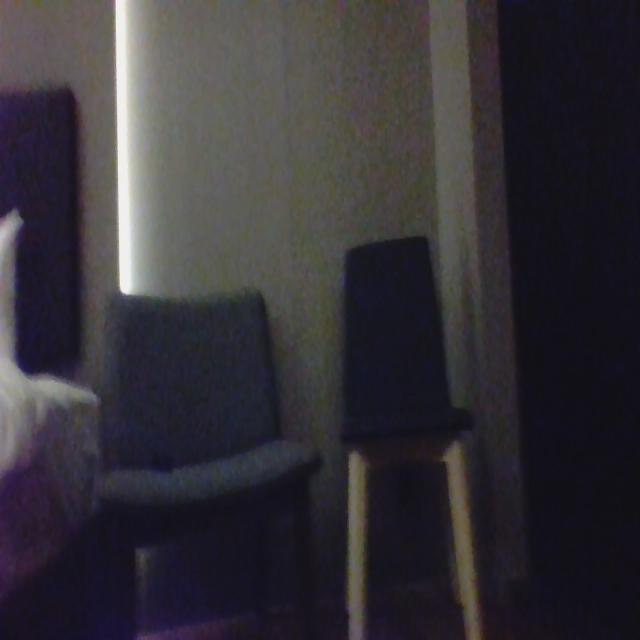empty: (97, 283, 280, 477), (332, 246, 460, 457)
